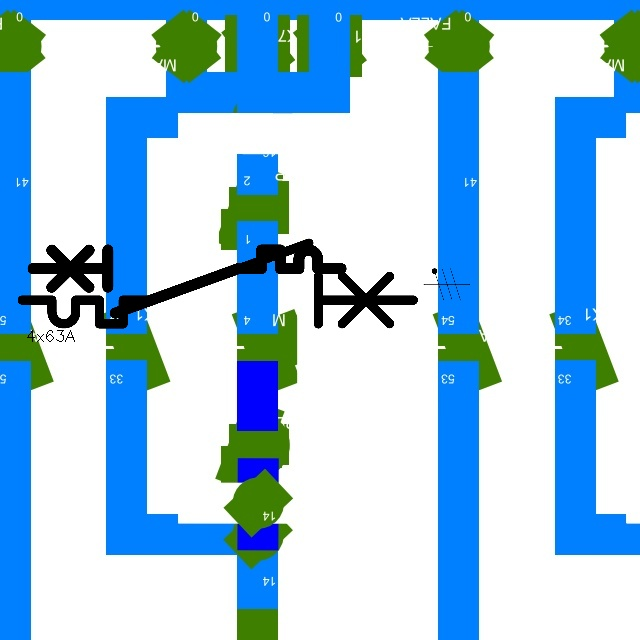interruptor_termomagnetico: (12, 233, 423, 334), (25, 242, 349, 321)
